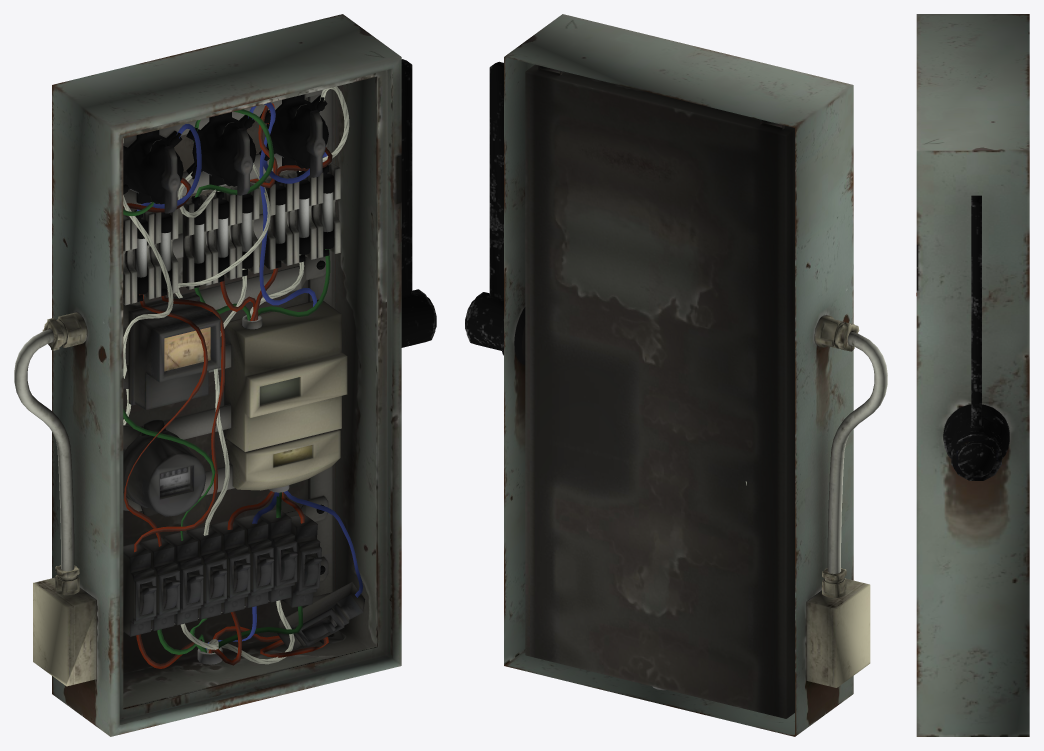
The model's file is panou_interior.fbx.
The picture shows the model from 3 angles, left to right: view 1: azimuth 30°, elevation 25°; view 2: azimuth 150°, elevation 25°; view 3: azimuth 270°, elevation 25°; orthographic projection. The views are drawn at different scales.
Parts seen in each view (by area): view 1: desirefx_me_001; view 2: desirefx_me_001; view 3: desirefx_me_001.
Boxes of the visible parts, x1=… form: desirefx_me_001: x1=14, y1=14, x2=436, y2=736; desirefx_me_001: x1=465, y1=14, x2=887, y2=736; desirefx_me_001: x1=916, y1=14, x2=1029, y2=736.
Size of the model in its own units: 107 by 151 by 26.52.
